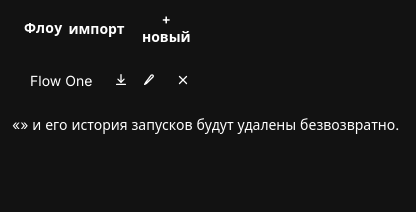
Test case: FlowList › surfaces an export failure as an error message
Click the button named "Экспортировать Flow One" at (121, 80), box [108,67,134,93]
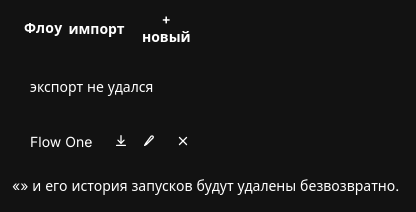
expect the text "экспорт не удался" is shown: met, box [30,78,153,95]
